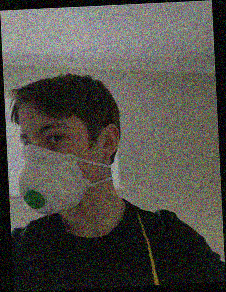with_mask: (16, 115, 96, 215)
